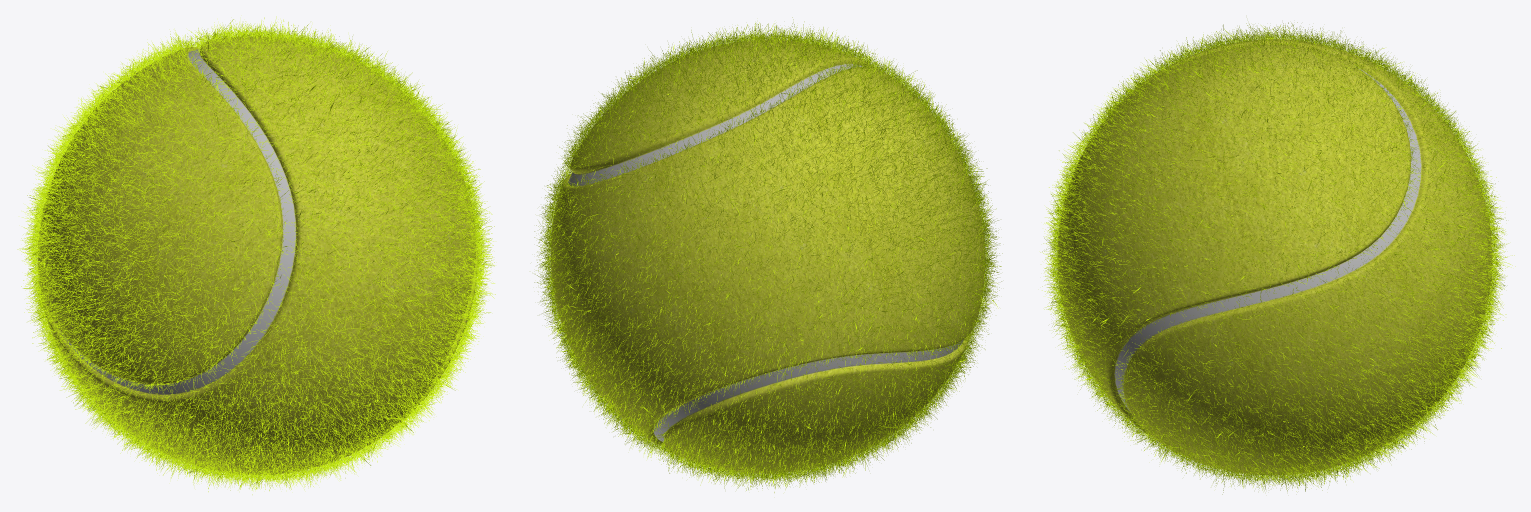
Rendered from tennis_ball_2_mid.glb.
3 renders of one model, left to right at view 1: azimuth 30°, elevation 25°; view 2: azimuth 150°, elevation 25°; view 3: azimuth 270°, elevation 25°, orthographic.
Visible parts, largest first — view 1: Object_2; view 2: Object_2; view 3: Object_2.
Boxes of the visible parts, x1,y1,x2,y2 form: Object_2: [17, 16, 495, 494]; Object_2: [534, 17, 1002, 492]; Object_2: [1040, 22, 1515, 494].
Bounding box in the file's own units: 0.067 × 0.0668 × 0.0668.
2 materials, 1 textured.
